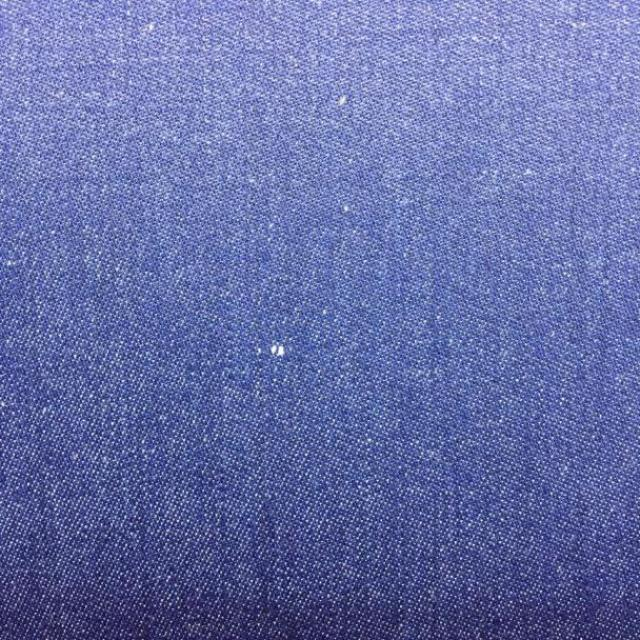Knot: (271, 345, 283, 356)
